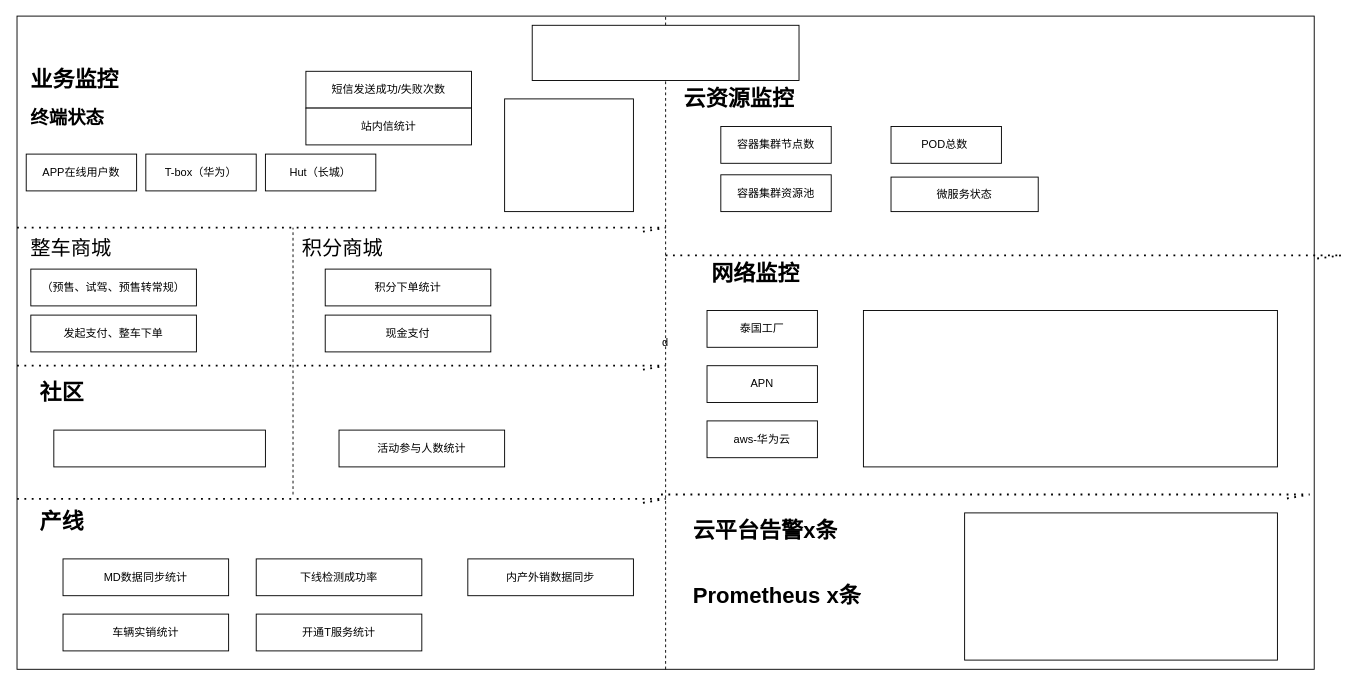
This 1359x686 diagram has some shape labels left out. Here are the shapes that lost their labels. From the top down, the box of each, then its label:
(531, 24, 799, 80): 东盟站点实时监控
(504, 98, 633, 212): 验证码登陆次数
(862, 310, 1277, 467): 站点监控
(53, 429, 265, 467): 活动热度统计（评论、点赞、收藏、浏览）
(964, 512, 1277, 660): 告警列表
